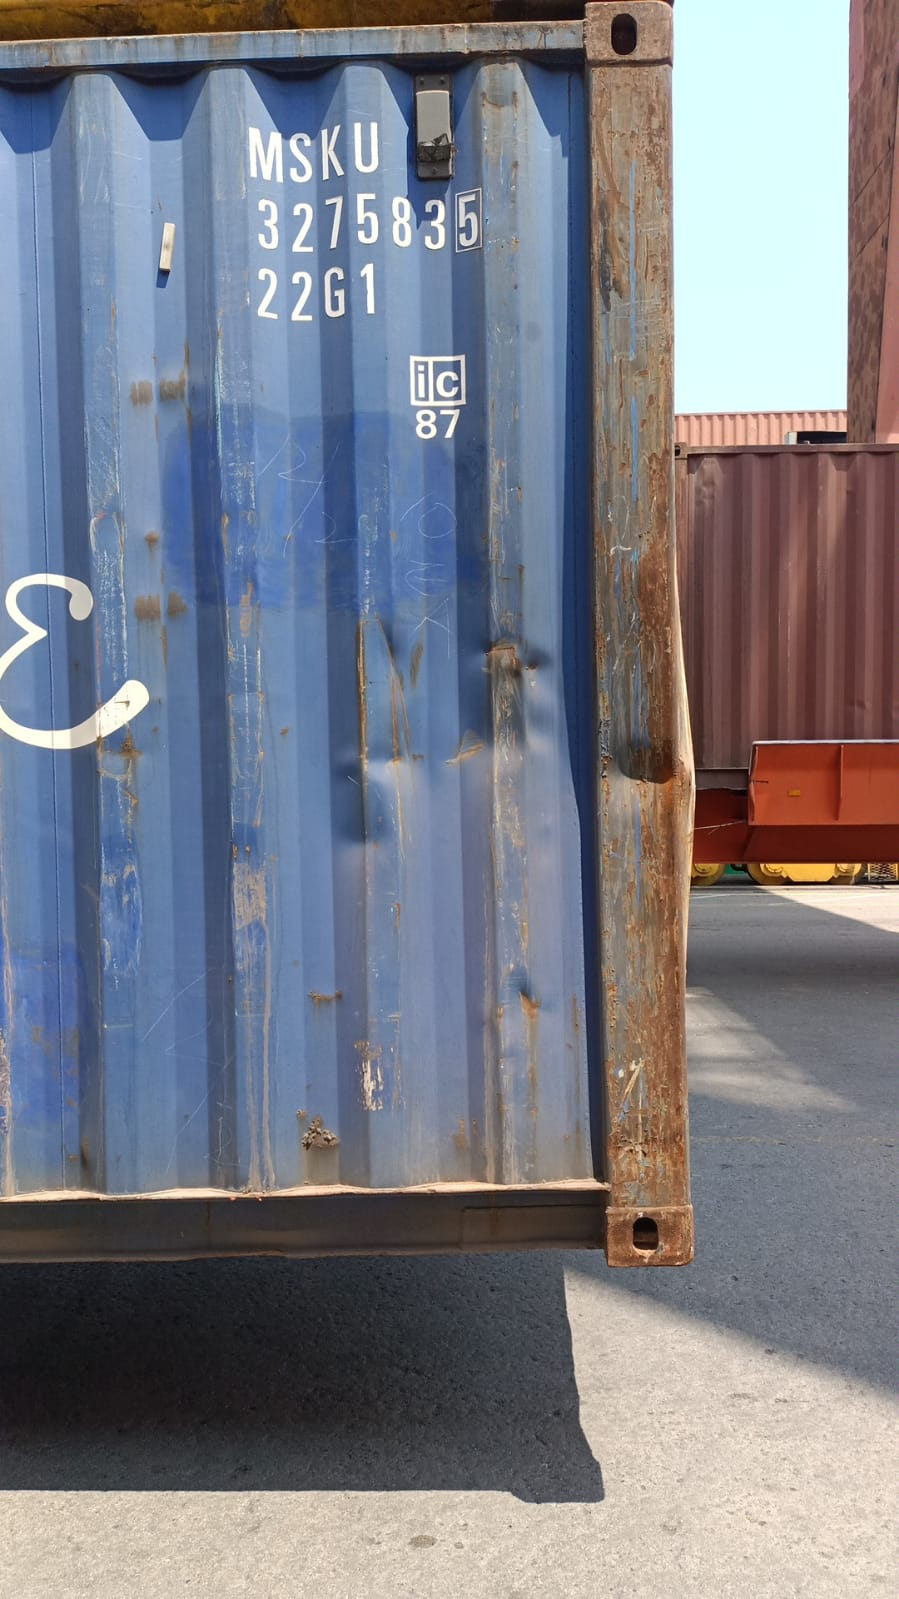bulged: (119, 604, 514, 1030), (553, 681, 717, 903)
